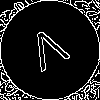V: (25, 25, 75, 81)
